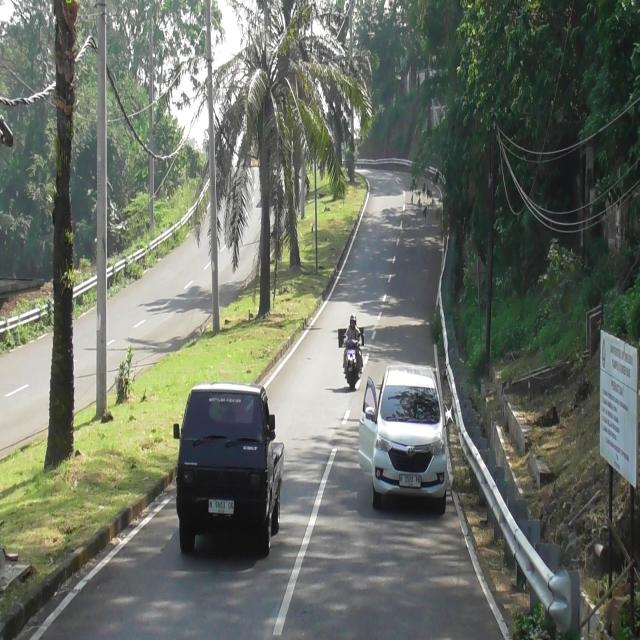motorcycle: (343, 337, 358, 390)
person: (345, 315, 362, 347)
rider_region: (344, 308, 361, 386)
